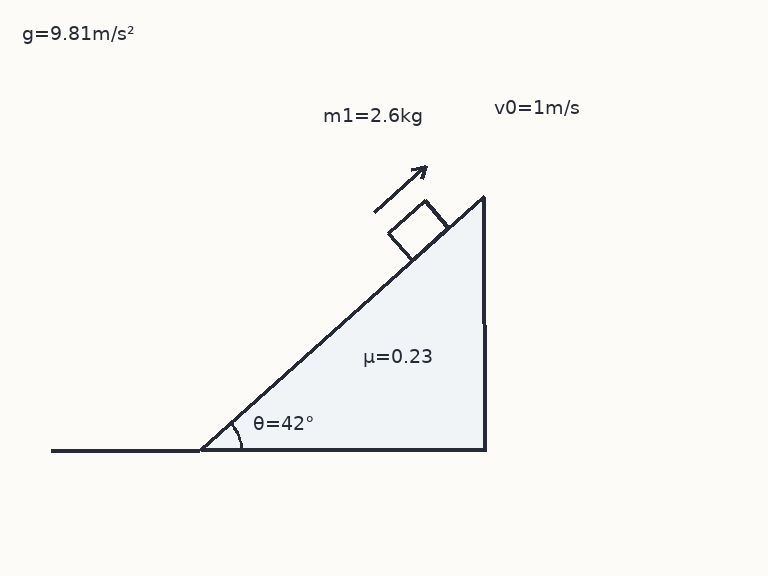block: (386, 199, 450, 262)
ramp: (199, 194, 485, 452)
